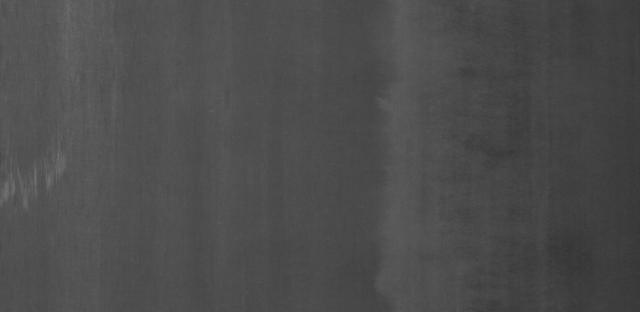silk_spot: (0, 131, 73, 223)
